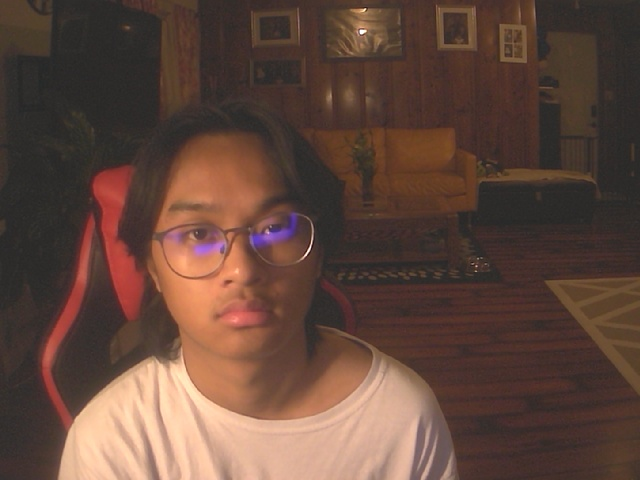neutral: (116, 102, 342, 379)
